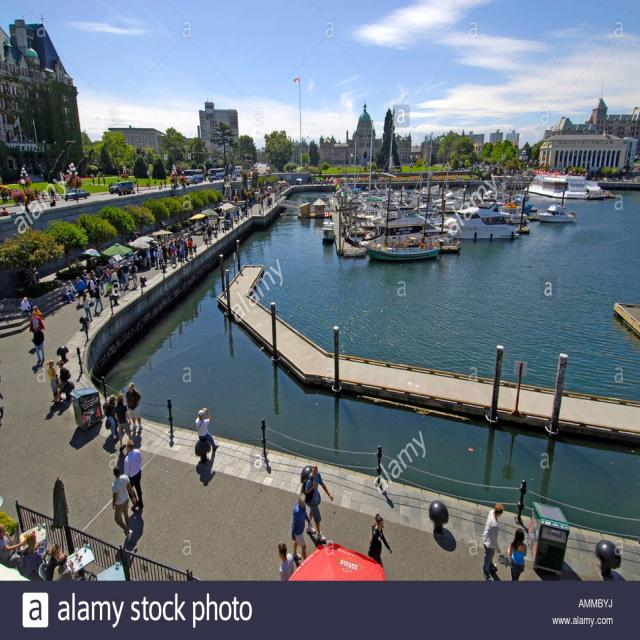body: (300, 463, 334, 543), (136, 234, 197, 269), (110, 464, 136, 543), (115, 507, 145, 570), (482, 501, 504, 584), (497, 528, 528, 582), (195, 202, 248, 232), (123, 438, 144, 512), (291, 491, 312, 563), (0, 523, 27, 577), (368, 512, 392, 567), (114, 392, 134, 452), (294, 531, 324, 570), (195, 407, 219, 452), (125, 381, 144, 434), (101, 431, 143, 454), (89, 258, 124, 284), (91, 176, 136, 196), (195, 448, 217, 486), (51, 552, 77, 582), (43, 394, 73, 420), (104, 393, 120, 440), (277, 542, 294, 581), (45, 359, 59, 403), (28, 337, 44, 374), (16, 530, 38, 556), (46, 543, 61, 581), (259, 185, 282, 209), (32, 324, 45, 364), (76, 301, 102, 318), (29, 311, 47, 334), (34, 185, 59, 200), (61, 282, 78, 304), (82, 293, 94, 323), (93, 282, 104, 313), (164, 178, 198, 188), (20, 296, 34, 319), (75, 276, 86, 305), (57, 360, 68, 386), (110, 268, 120, 294), (129, 261, 138, 287), (67, 279, 77, 302), (86, 275, 95, 299), (121, 261, 129, 288), (32, 305, 44, 321), (222, 175, 236, 187), (187, 237, 194, 259), (81, 268, 89, 286), (206, 227, 212, 244), (0, 189, 7, 203), (2, 188, 9, 202), (98, 279, 104, 294), (202, 225, 206, 242), (214, 215, 218, 231), (8, 189, 12, 203), (217, 216, 220, 232), (187, 235, 193, 242)
